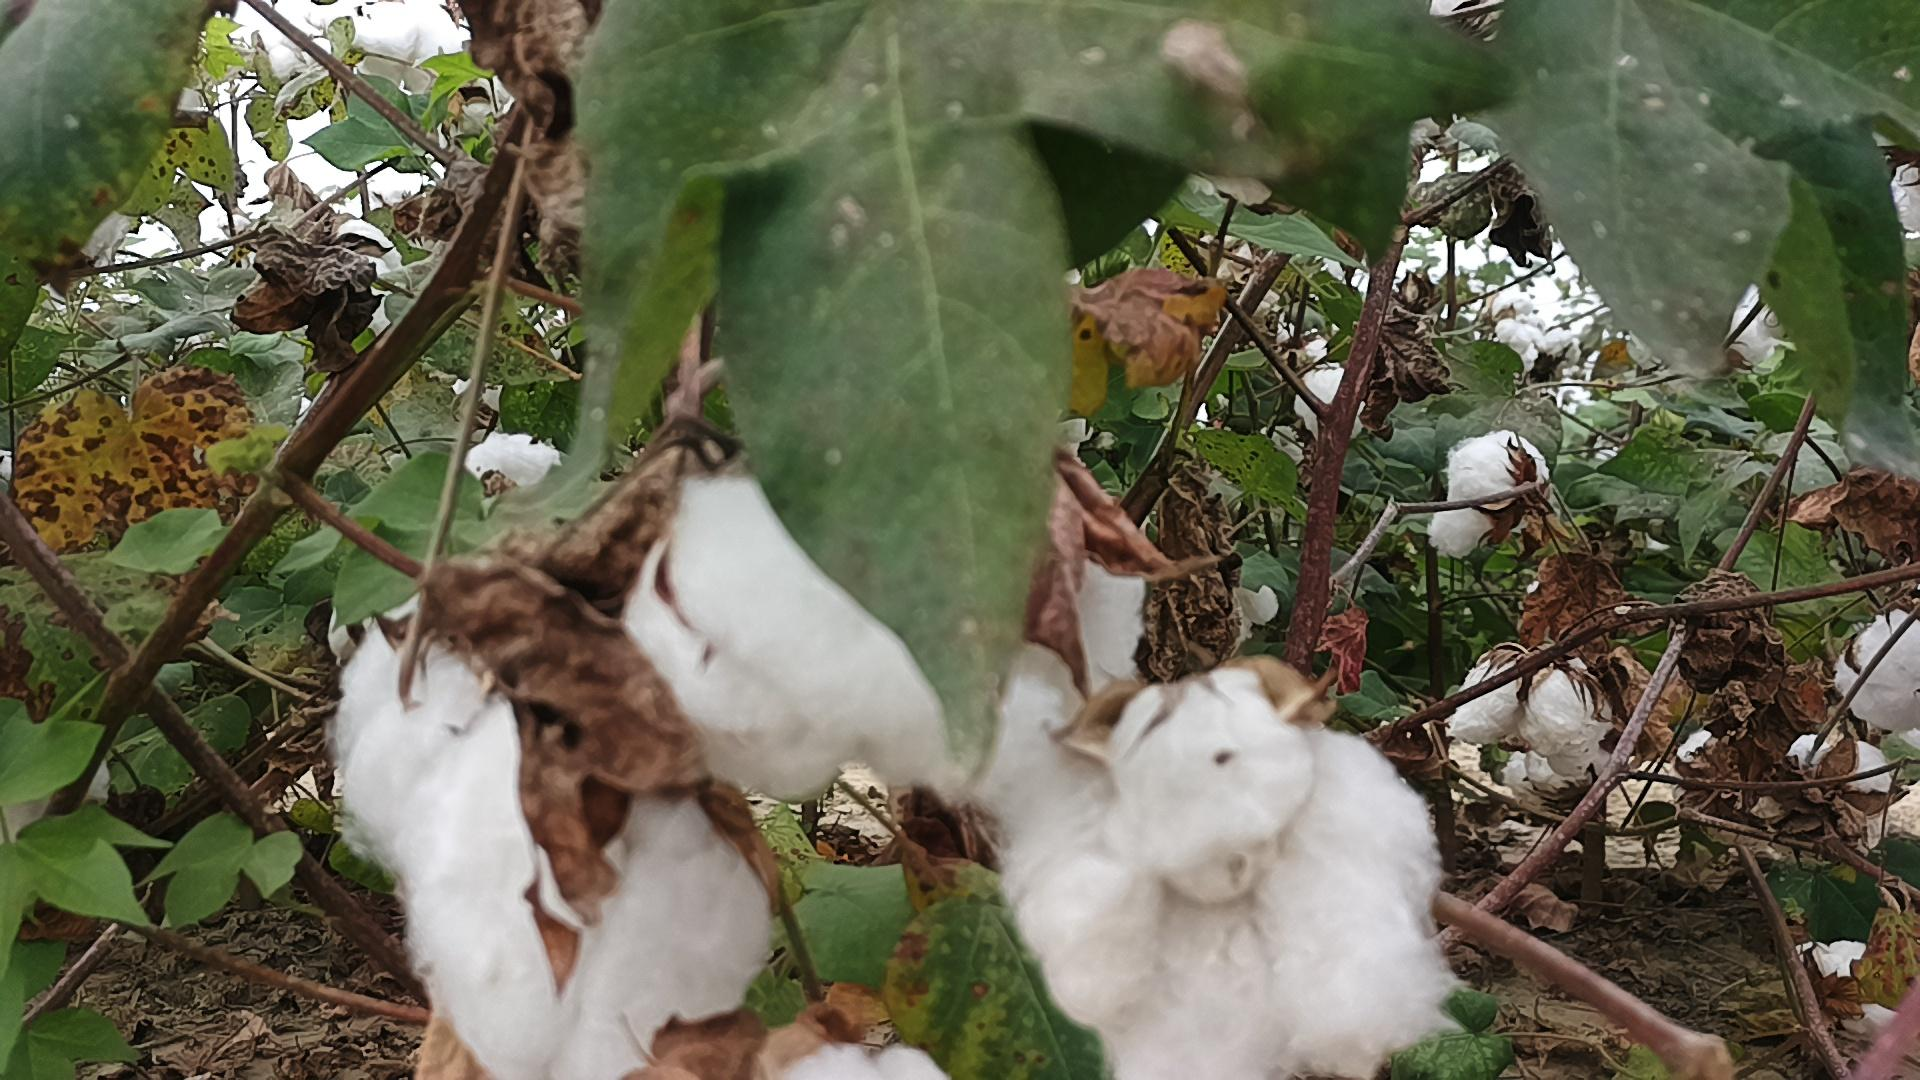cotton_ready: (334, 465, 971, 1080), (994, 675, 1458, 1080), (1072, 566, 1278, 702), (1449, 650, 1607, 771), (1425, 433, 1553, 559), (1619, 280, 1791, 368), (1263, 334, 1358, 458), (1833, 603, 1920, 727), (352, 9, 451, 100), (468, 430, 558, 520), (1788, 737, 1898, 795), (789, 1046, 949, 1080), (1888, 145, 1920, 277), (1808, 935, 1869, 985)
